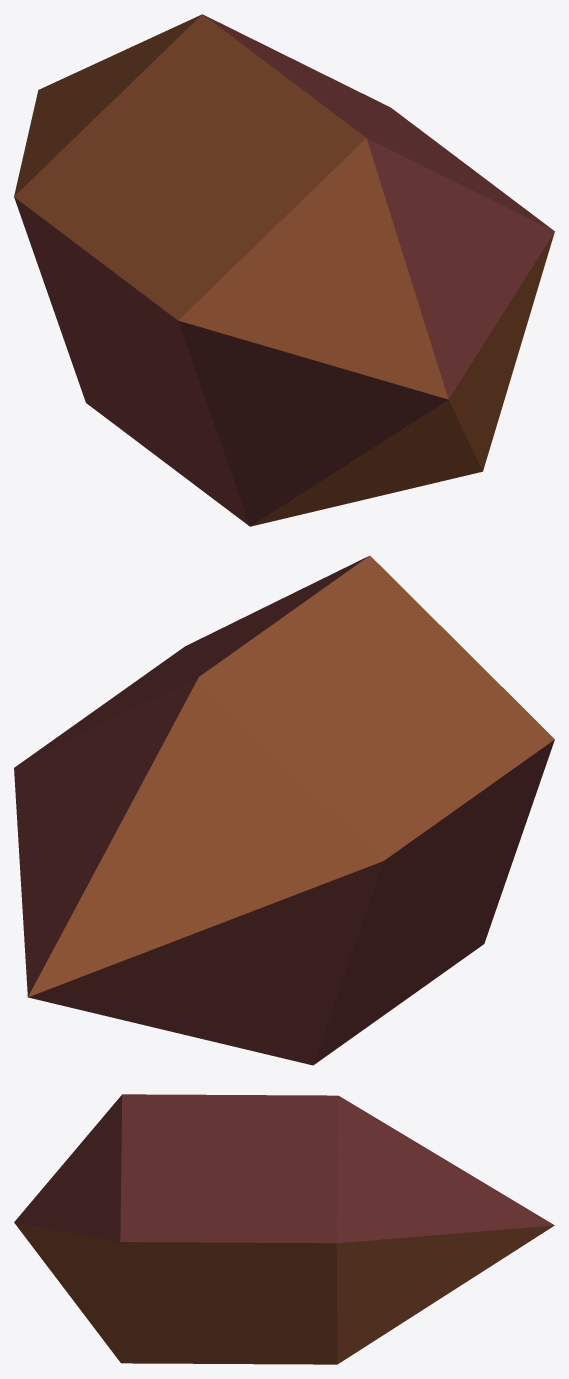
File: seed_bullet.gltf
3 views of the same model, one above another, from view 1: azimuth 30°, elevation 25°; view 2: azimuth 150°, elevation 25°; view 3: azimuth 270°, elevation 25° (orthographic). The views are drawn at different scales.
Visible parts, largest first — view 1: seed_bullet; view 2: seed_bullet; view 3: seed_bullet.
Part boxes in pixels (<box>): seed_bullet: <box>14,14,554,526</box>; seed_bullet: <box>14,555,554,1065</box>; seed_bullet: <box>14,1094,554,1364</box>.
Size of the model in its own units: 0.1624 by 0.1483 by 0.3125.
Materials: 1 (1 with a texture image).
